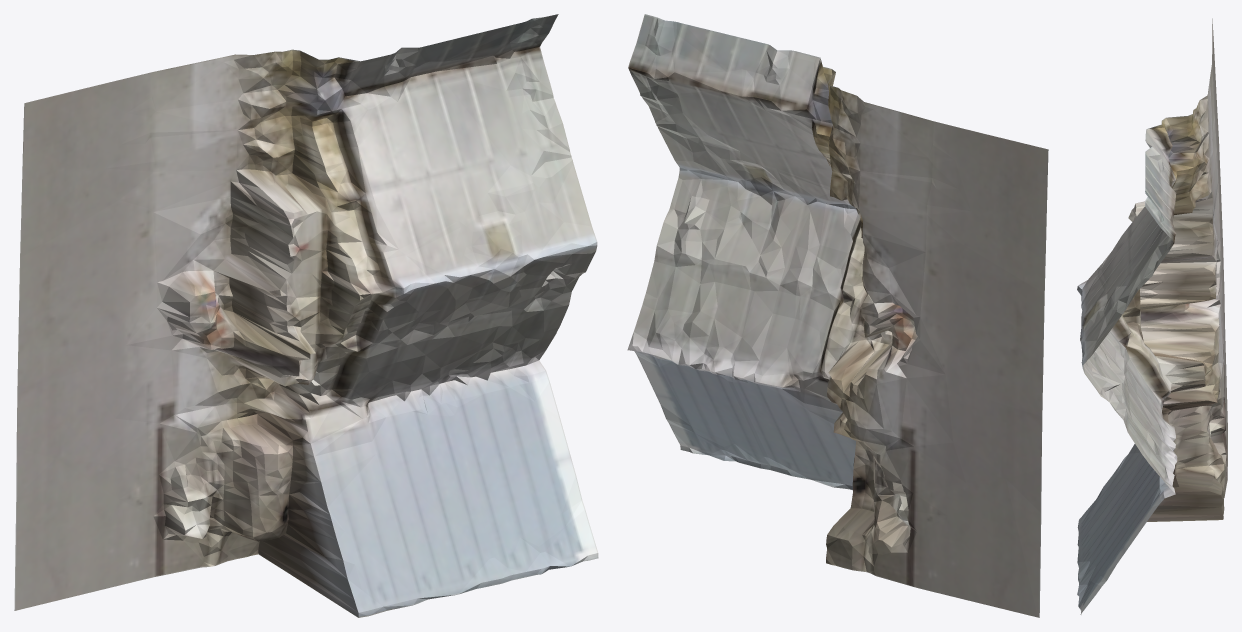
File: map_40_90.obj
The picture shows the model from 3 angles, left to right: view 1: azimuth 30°, elevation 25°; view 2: azimuth 150°, elevation 25°; view 3: azimuth 270°, elevation 25°; orthographic projection. The views are drawn at different scales.
Visible parts, largest first — view 1: grp1; view 2: grp1; view 3: grp1.
Part boxes in pixels (x1,y1,x2,y2): grp1: [14, 14, 598, 617]; grp1: [627, 14, 1048, 617]; grp1: [1077, 18, 1227, 614].
Size of the model in its own units: 10 by 10 by 3.32.
Materials: 1 (1 with a texture image).
